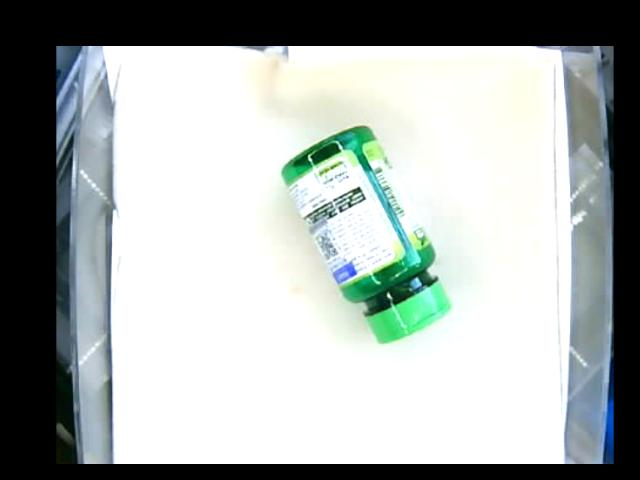Bottle: (281, 124, 452, 345)
